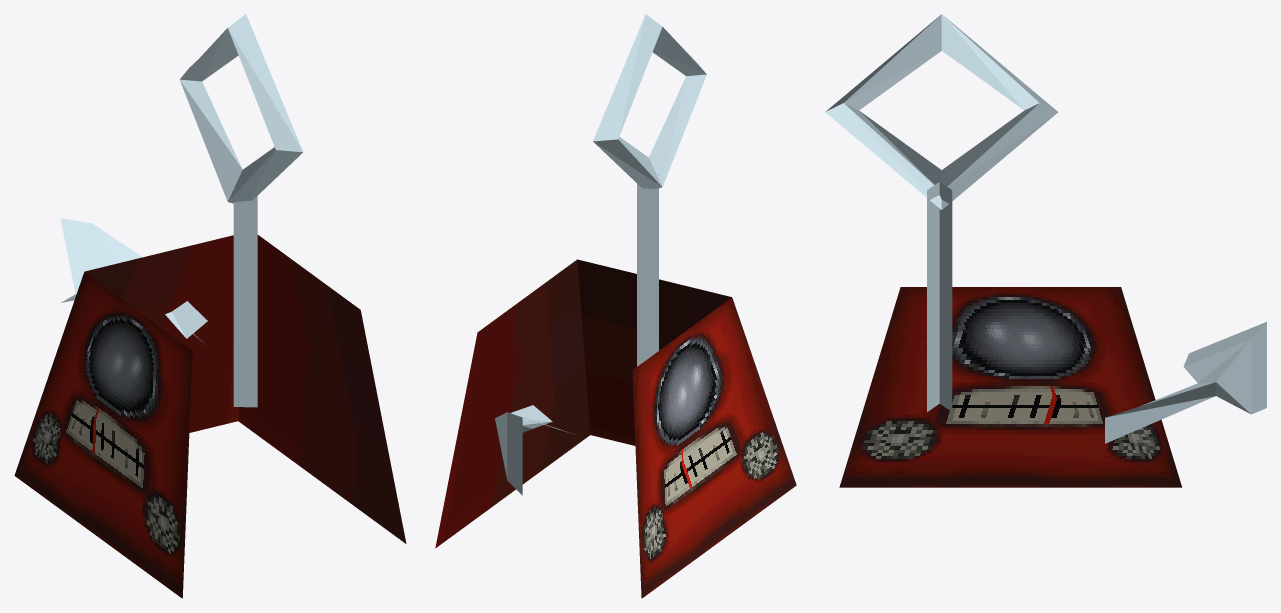
Rendered from RadioGerät_1756.glb.
3 views of the same model, side by side, from view 1: azimuth 30°, elevation 25°; view 2: azimuth 150°, elevation 25°; view 3: azimuth 270°, elevation 25° (orthographic). The views are drawn at different scales.
Parts seen in each view (by area): view 1: pCubeShape91, pCubeShape92, pTorusShape1, pCylinderShape142, pCylinderShape143; view 2: pCubeShape91, pCubeShape92, pTorusShape1, pCylinderShape142, pCylinderShape143; view 3: pCubeShape92, pTorusShape1, pCylinderShape143, pCylinderShape142.
Boxes of the visible parts, x1=… form: pCubeShape91: x1=85, y1=235, x2=406, y2=543; pCubeShape92: x1=14, y1=272, x2=192, y2=598; pTorusShape1: x1=179, y1=14, x2=303, y2=203; pCylinderShape142: x1=233, y1=189, x2=257, y2=407; pCylinderShape143: x1=60, y1=218, x2=207, y2=344; pCubeShape91: x1=435, y1=259, x2=731, y2=548; pCubeShape92: x1=632, y1=297, x2=796, y2=598; pTorusShape1: x1=593, y1=14, x2=706, y2=188; pCylinderShape142: x1=637, y1=174, x2=658, y2=366; pCylinderShape143: x1=495, y1=405, x2=573, y2=495; pCubeShape92: x1=839, y1=287, x2=1181, y2=487; pTorusShape1: x1=825, y1=14, x2=1058, y2=209; pCylinderShape143: x1=1105, y1=322, x2=1266, y2=443; pCylinderShape142: x1=927, y1=182, x2=952, y2=411.
Bounding box in the file's own units: 0.0442 × 0.0982 × 0.0742.
Materials: 5 (2 with a texture image).
